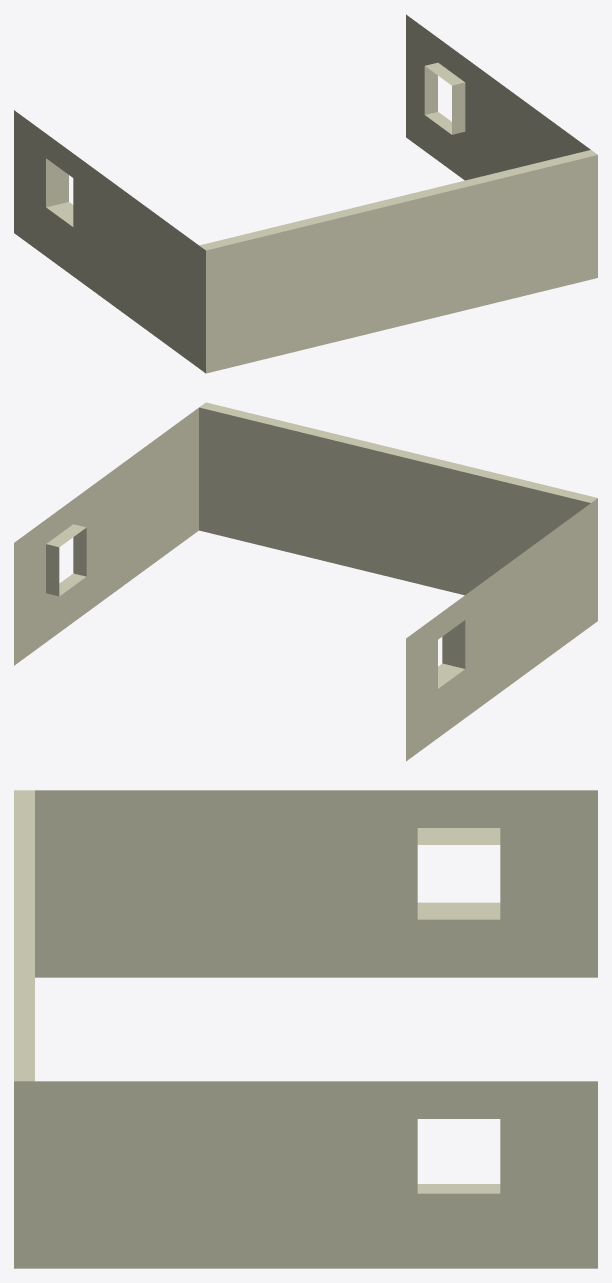
Rendered from pared_externa_2.glb.
3 renders of one model, top to bottom at view 1: azimuth 30°, elevation 25°; view 2: azimuth 150°, elevation 25°; view 3: azimuth 270°, elevation 25°, orthographic. The views are drawn at different scales.
Parts seen in each view (by area): view 1: columna1.007; view 2: columna1.007; view 3: columna1.007.
Boxes of the visible parts, x1=… form: columna1.007: x1=14, y1=14, x2=597, y2=373; columna1.007: x1=14, y1=402, x2=597, y2=761; columna1.007: x1=14, y1=790, x2=597, y2=1268.
Size of the model in its own units: 58.61 by 17.58 by 49.71.
